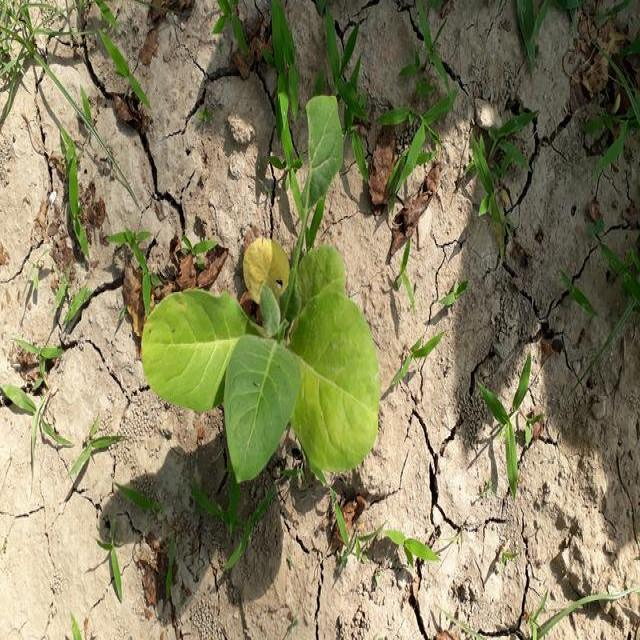crop: (138, 95, 384, 481)
